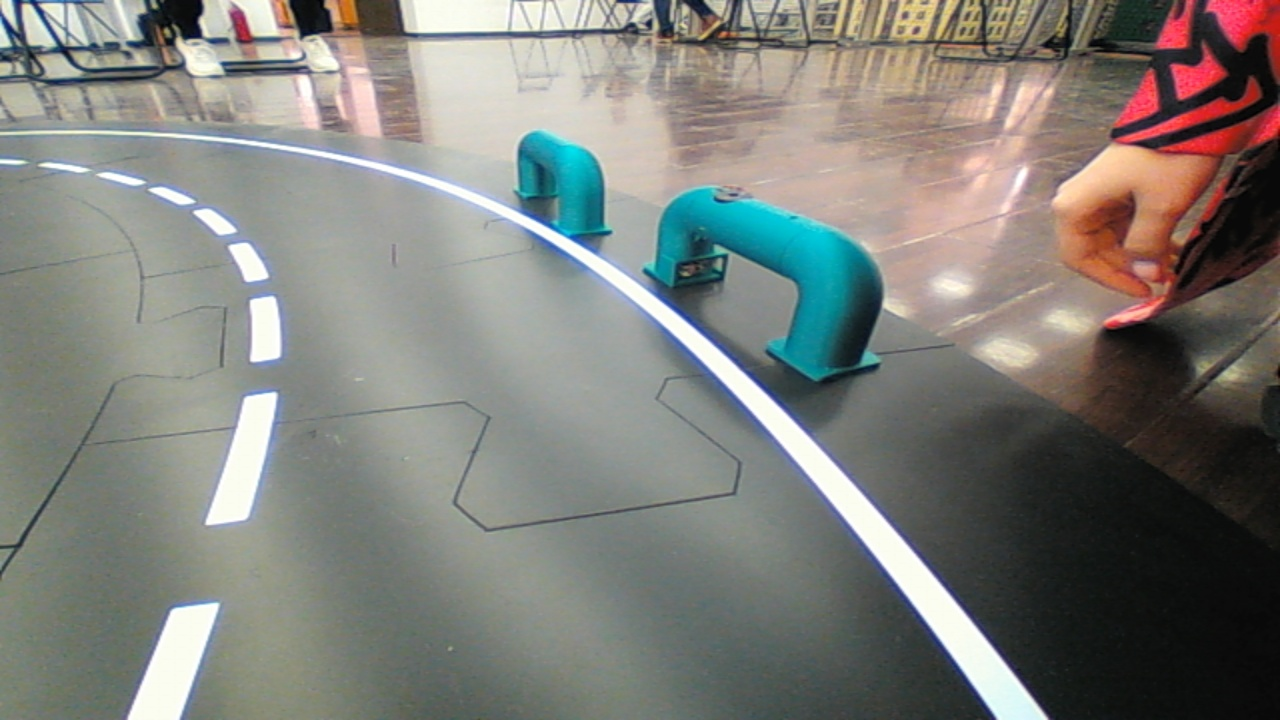No entry: (506, 117, 614, 251)
Pedestrian crossing: (640, 174, 903, 389)
